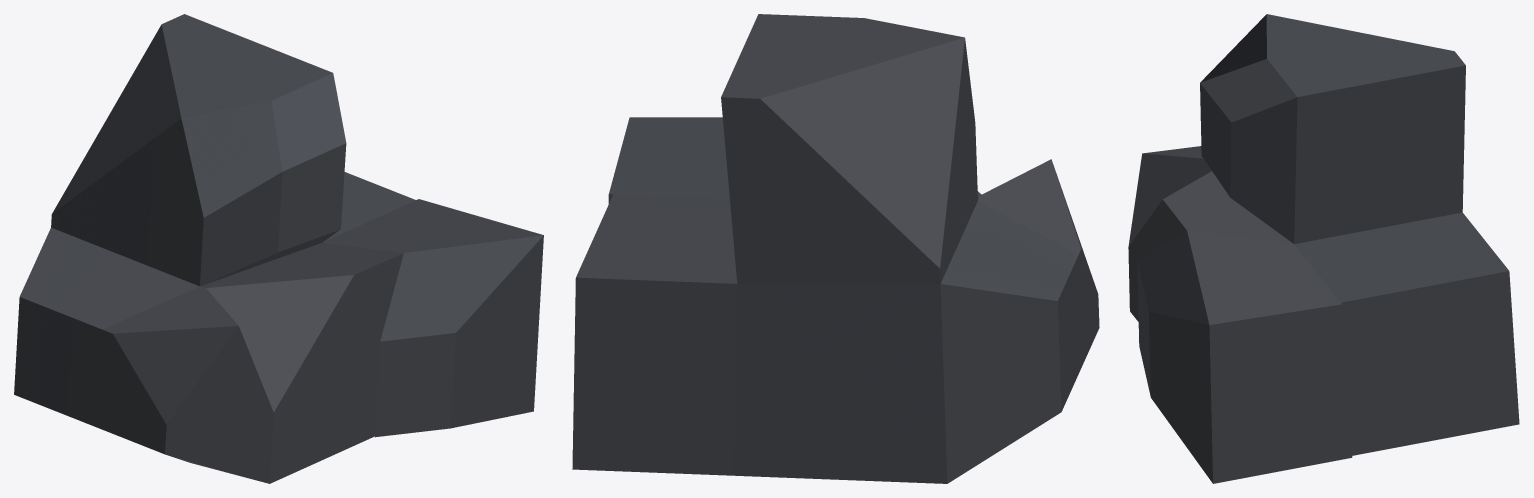
Rendered from rock2.obj.
3 renders of one model, left to right at view 1: azimuth 30°, elevation 25°; view 2: azimuth 150°, elevation 25°; view 3: azimuth 270°, elevation 25°, orthographic. The views are drawn at different scales.
Size of the model in its own units: 3.86 by 2.82 by 3.09.
Materials: 1 (1 with a texture image).
